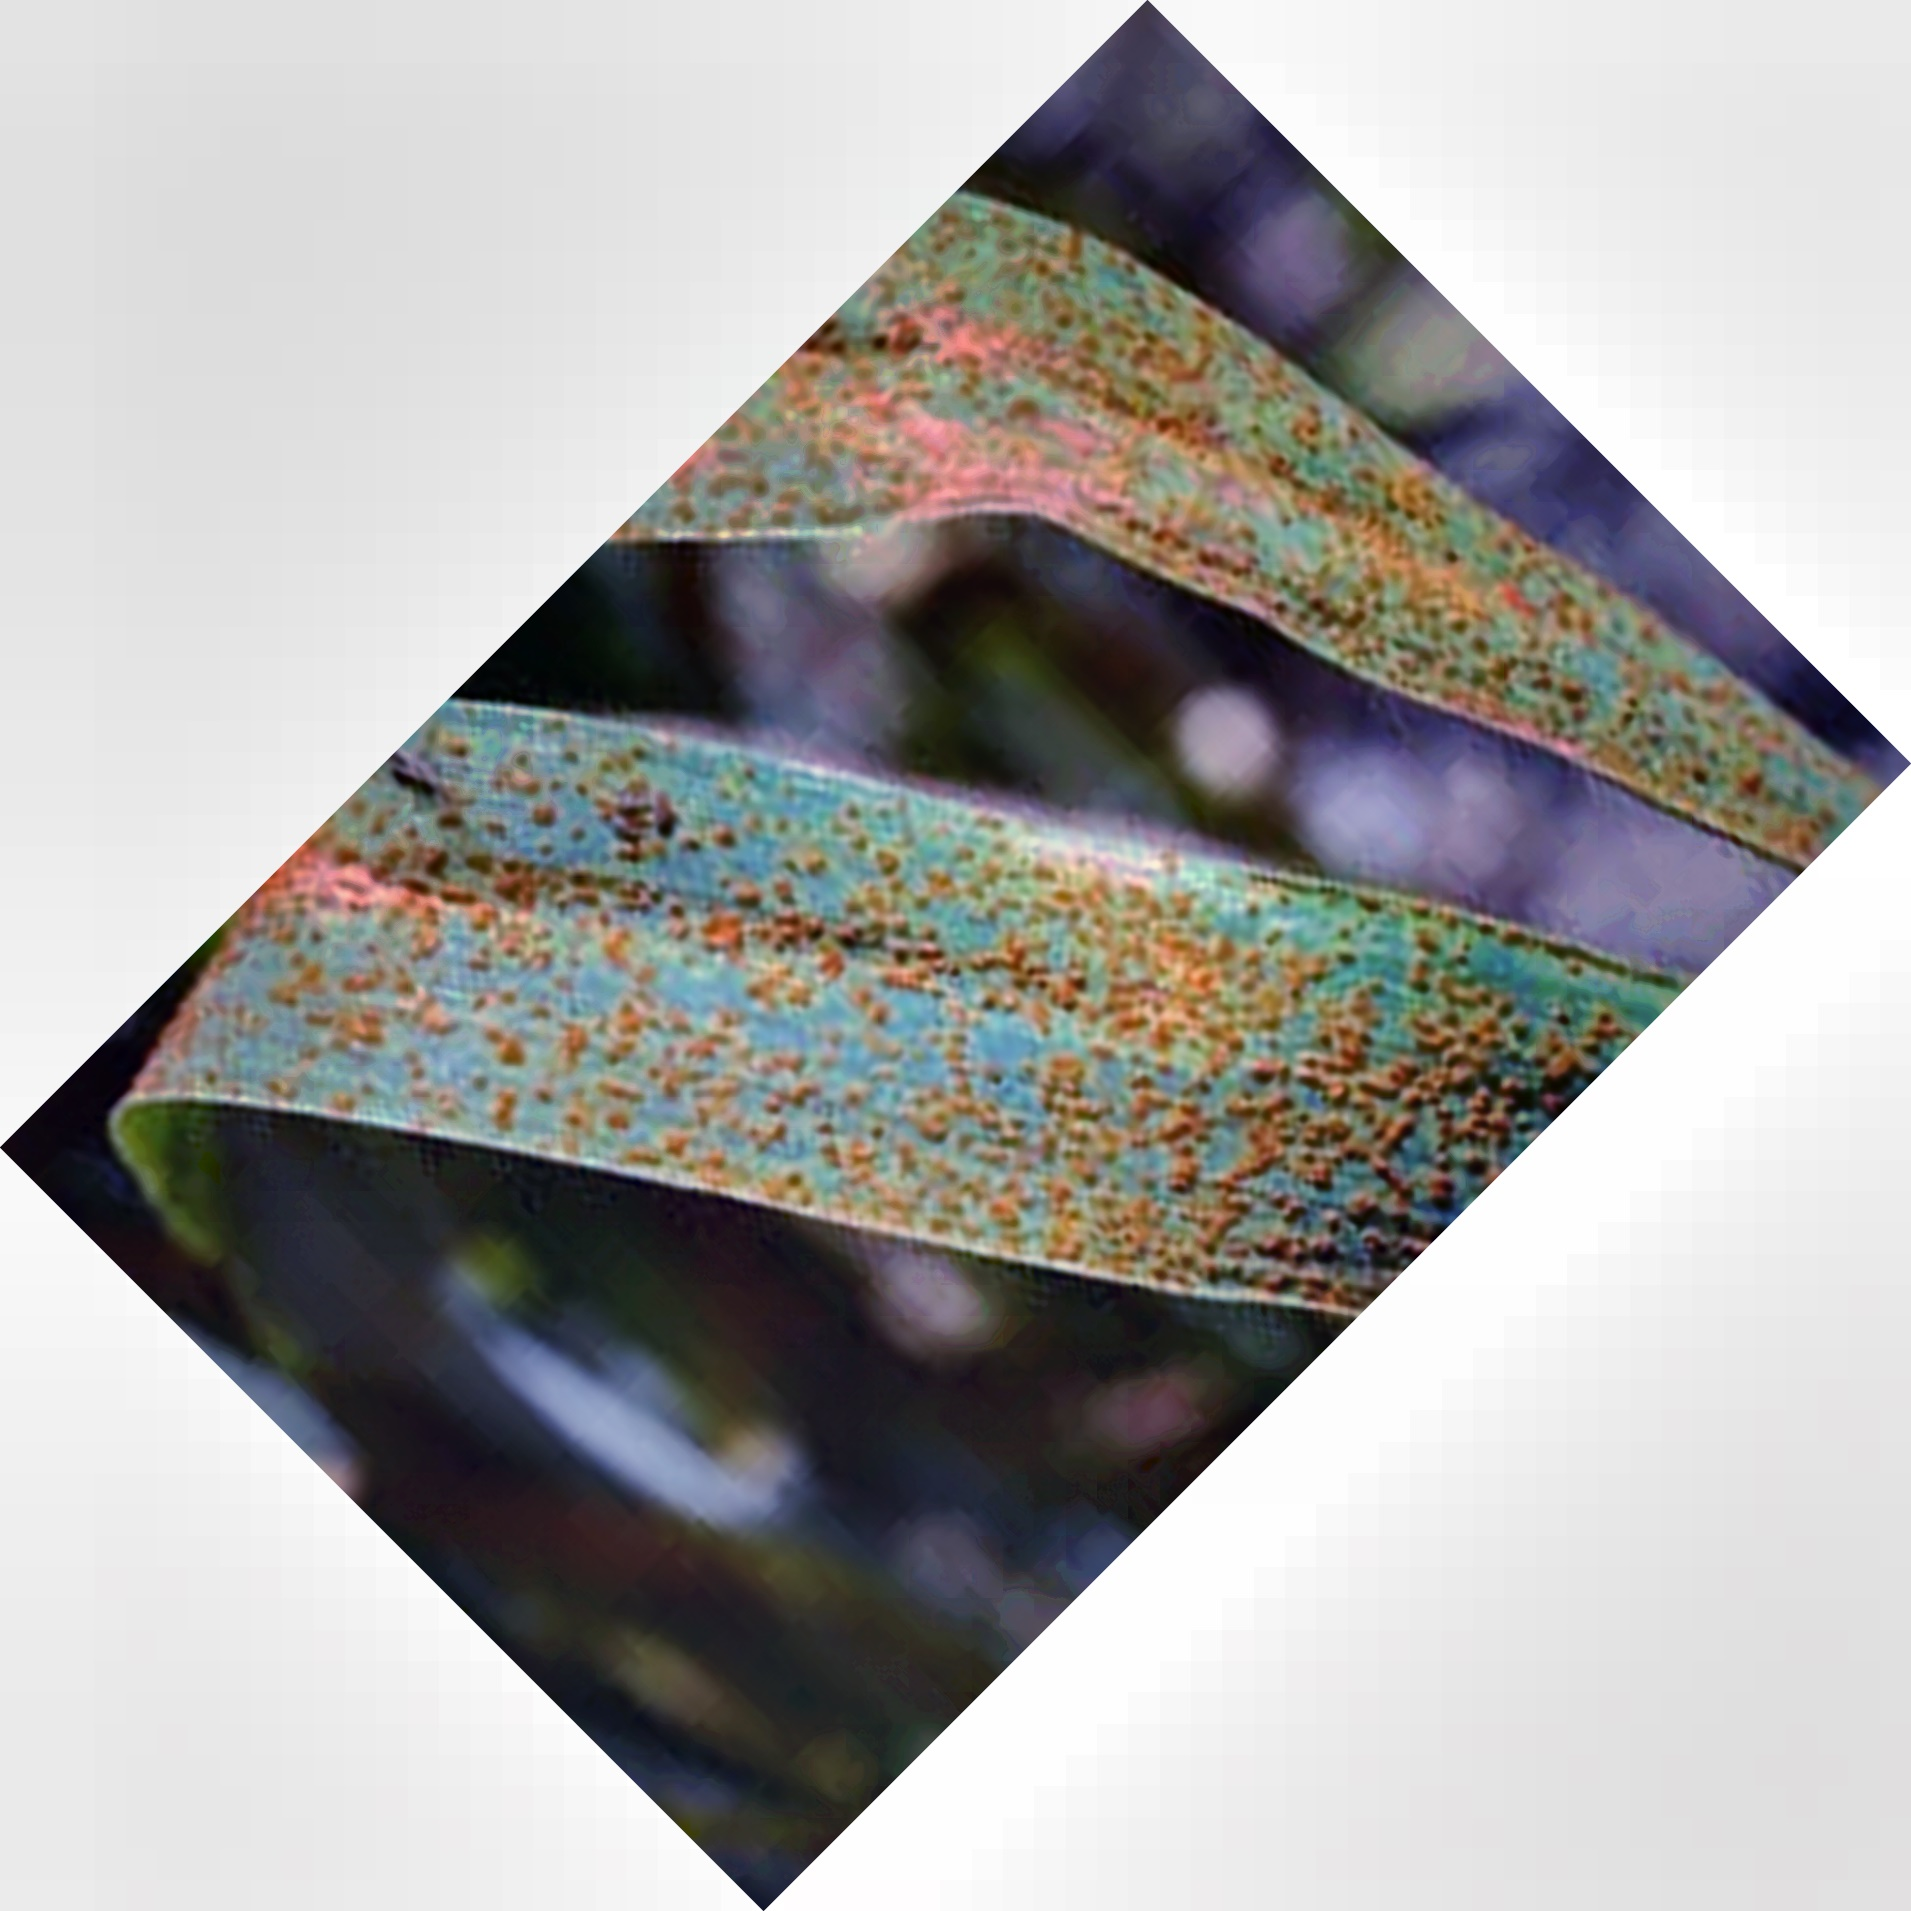Leaf Rust: (409, 758, 1557, 1284)
